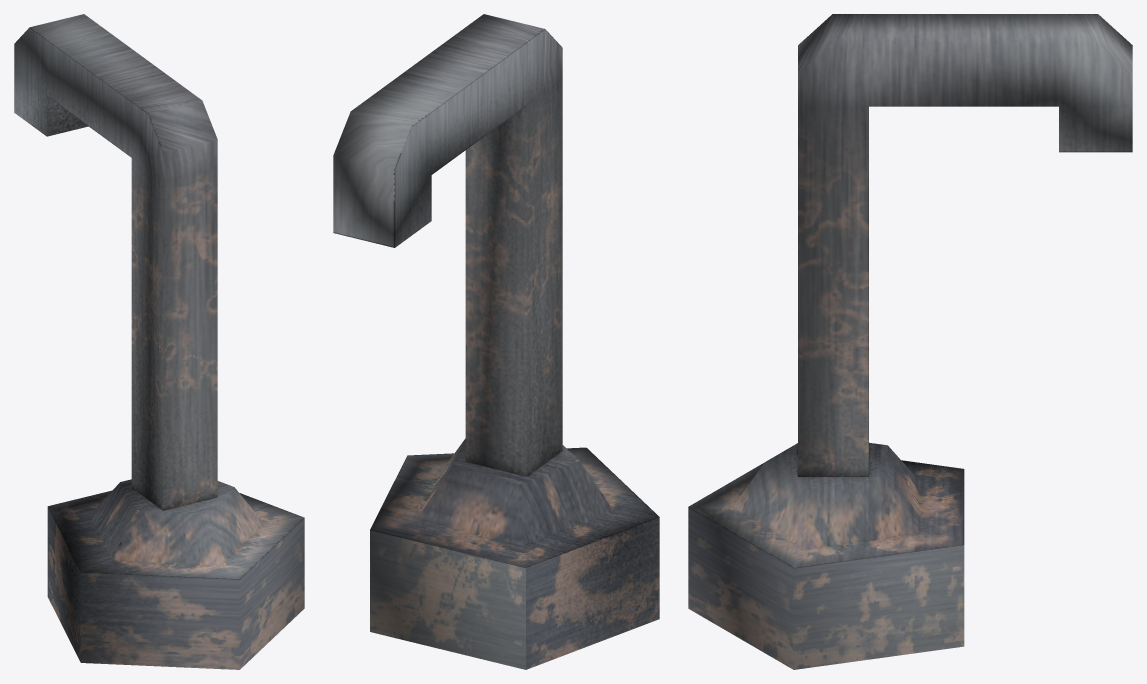
The model's file is Foset.fbx.
3 views of the same model, side by side, from view 1: azimuth 30°, elevation 25°; view 2: azimuth 150°, elevation 25°; view 3: azimuth 270°, elevation 25° (orthographic). The views are drawn at different scales.
Parts seen in each view (by area): view 1: polySurface194; view 2: polySurface194; view 3: polySurface194.
Part boxes in pixels (x1,y1,x2,y2): polySurface194: [14, 14, 304, 669]; polySurface194: [333, 14, 659, 669]; polySurface194: [688, 14, 1132, 669].
Bounding box in the file's own units: 0.7304 × 1.61 × 1.12.
